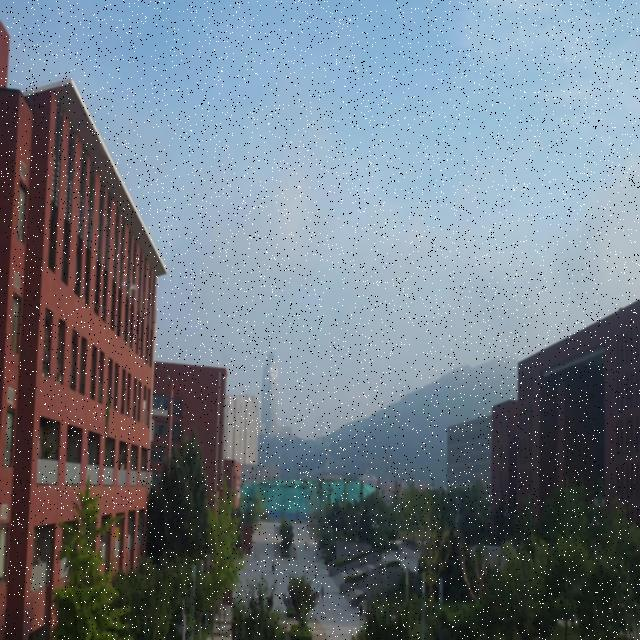UAV: (121, 280, 138, 296)
